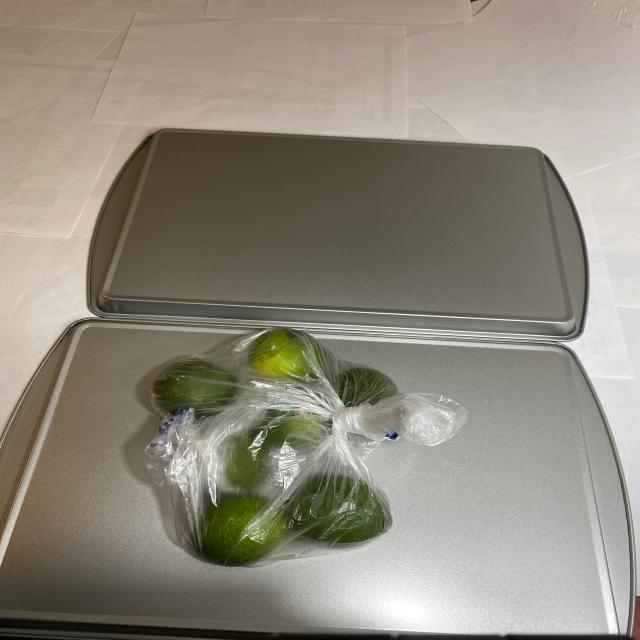lemon: (140, 330, 412, 560)
